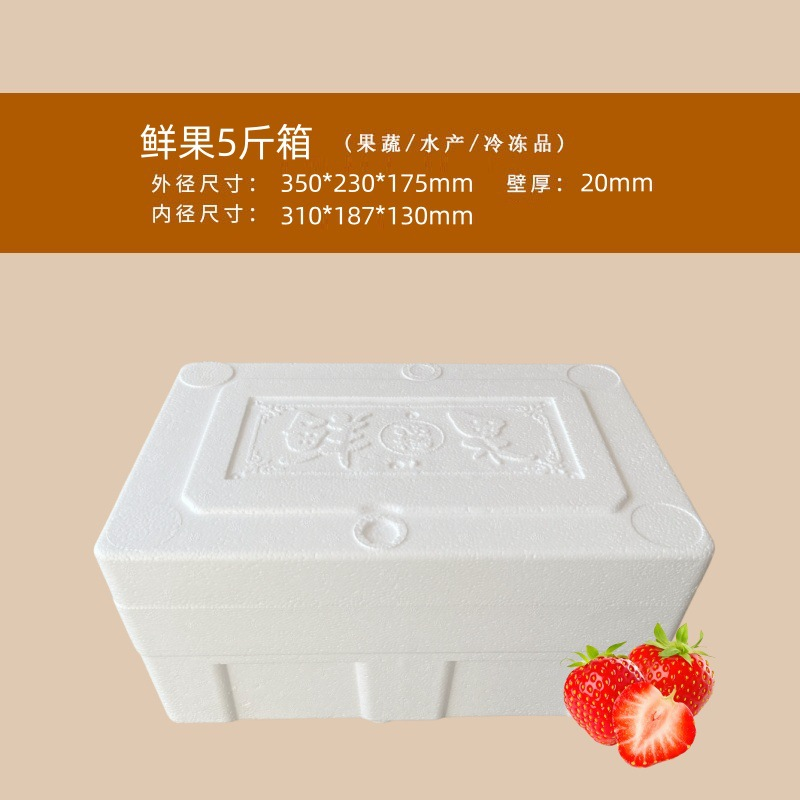泡沫箱: (95, 363, 712, 766)
